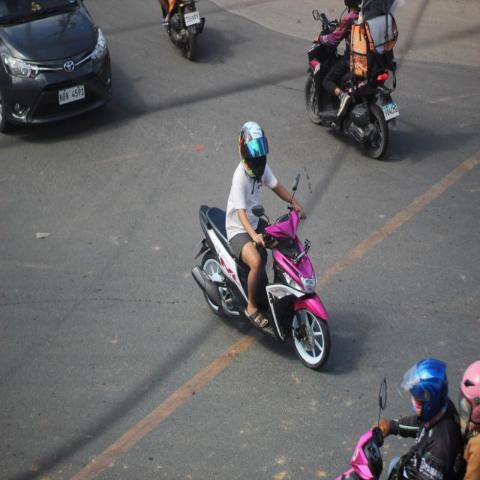car: (0, 0, 114, 136)
motorcycle: (191, 116, 333, 371), (308, 25, 400, 166)
